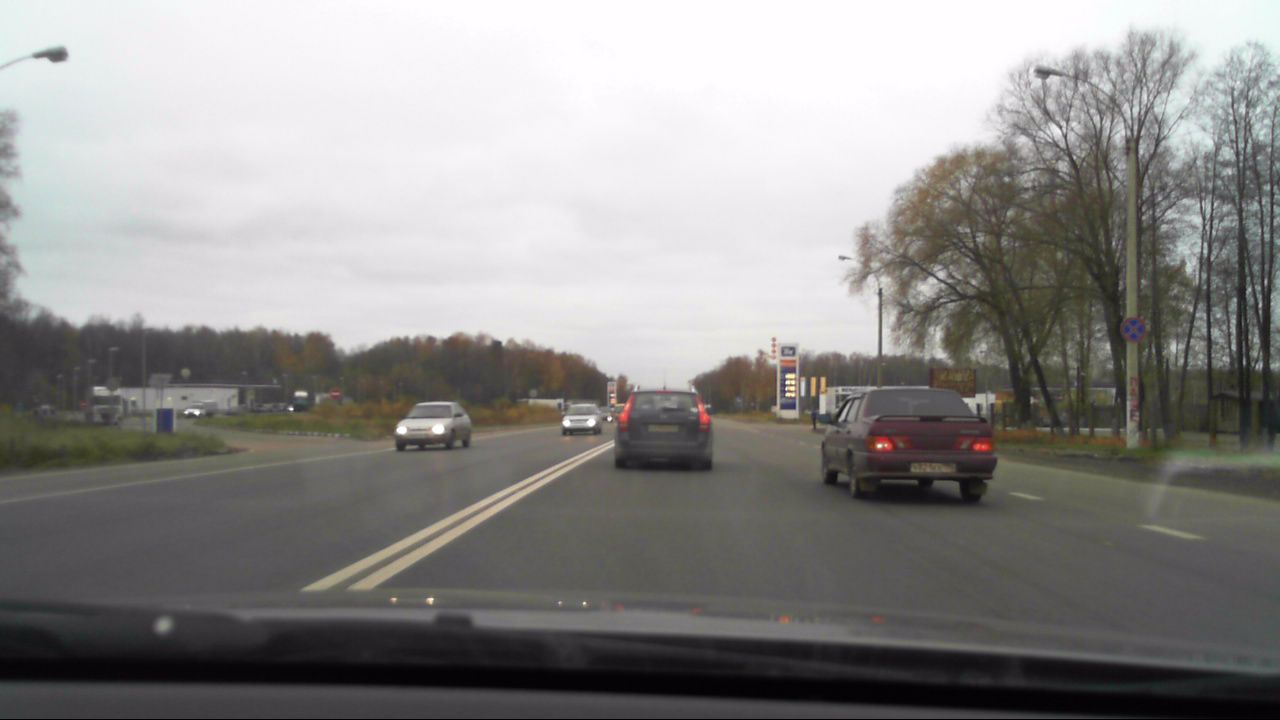No Parking: (1120, 315, 1145, 339)
